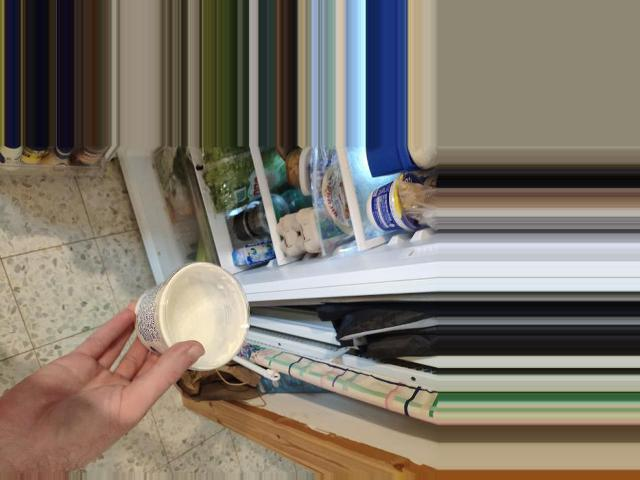cotage: (127, 277, 248, 375)
